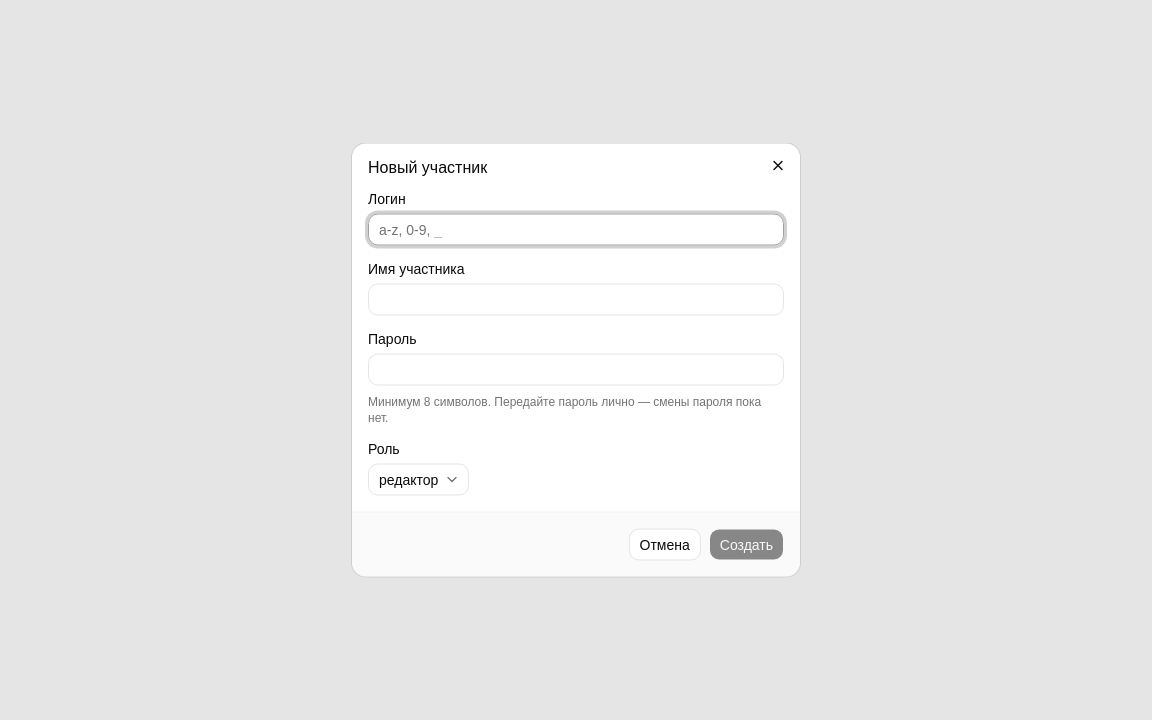
Scenario: MemberDialog — which refusal it recognises › does not claim the login is taken when the server said something else
This screenshot has width=1152, height=720.
Type "maria" into the field labelled "Логин" at (576, 230), box [368,214,784,246]
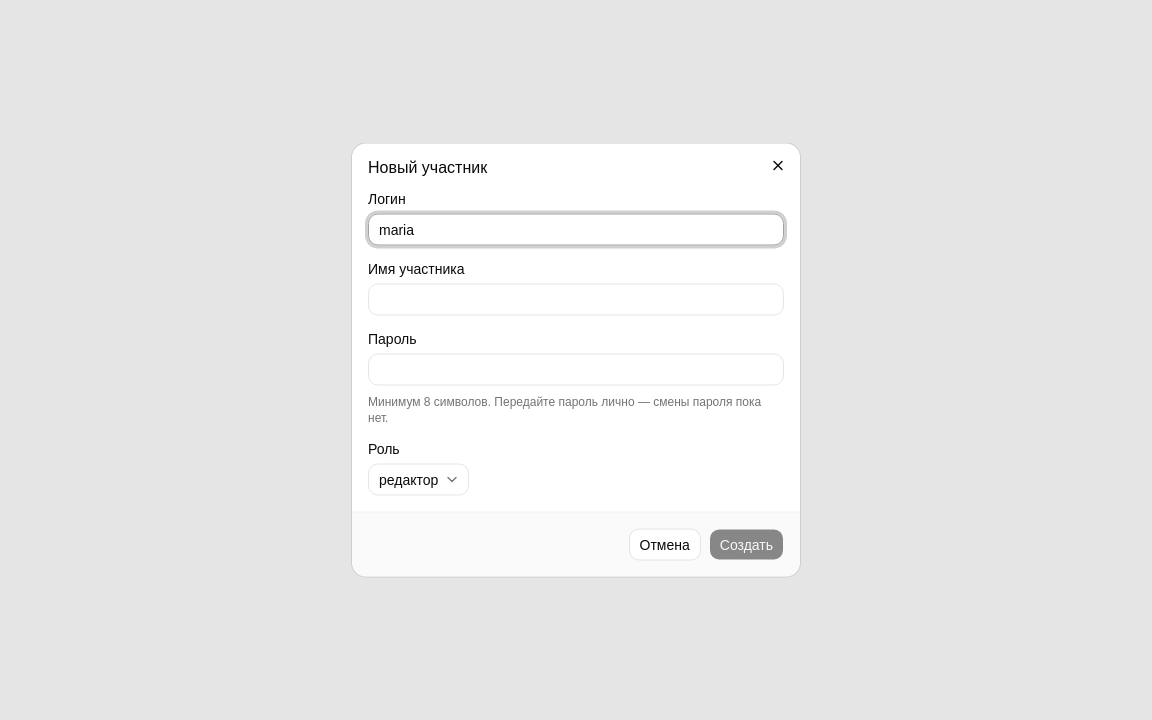
Type "Мария" into the field labelled "Имя участника" at (576, 300), box [368,284,784,316]
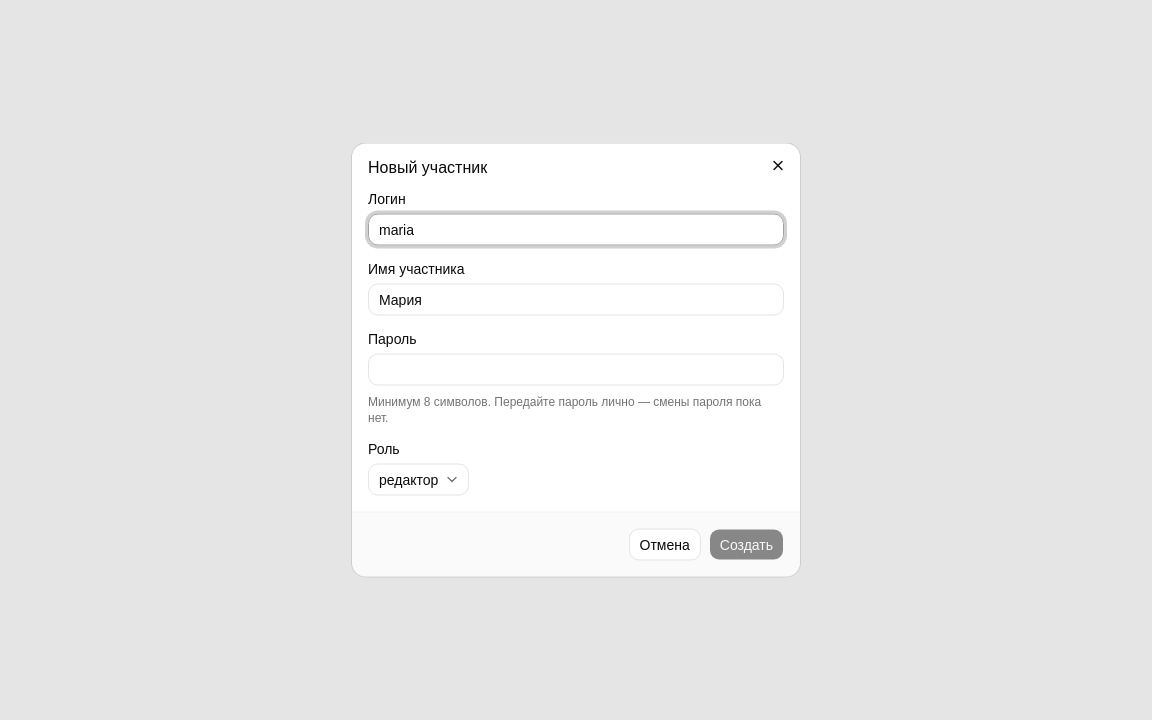
Type "12345678" into the password field labelled "Пароль" at (576, 370), box [368,354,784,386]
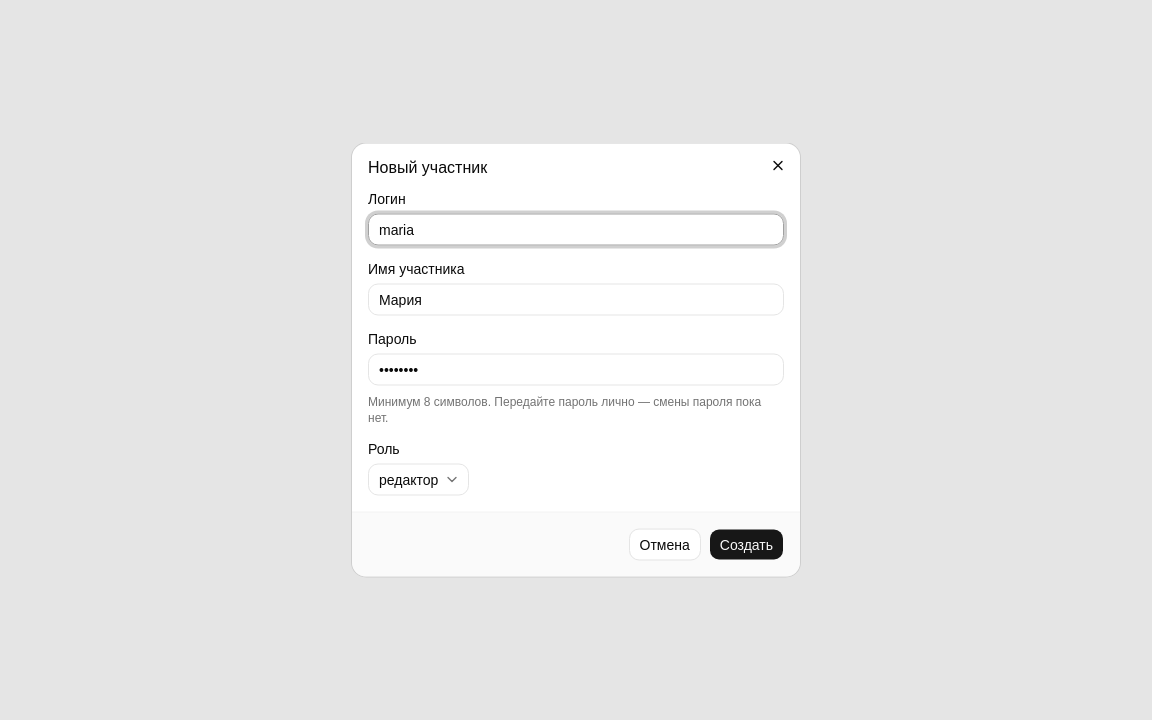
Click the button "Создать" at (746, 544), box [709,528,784,560]
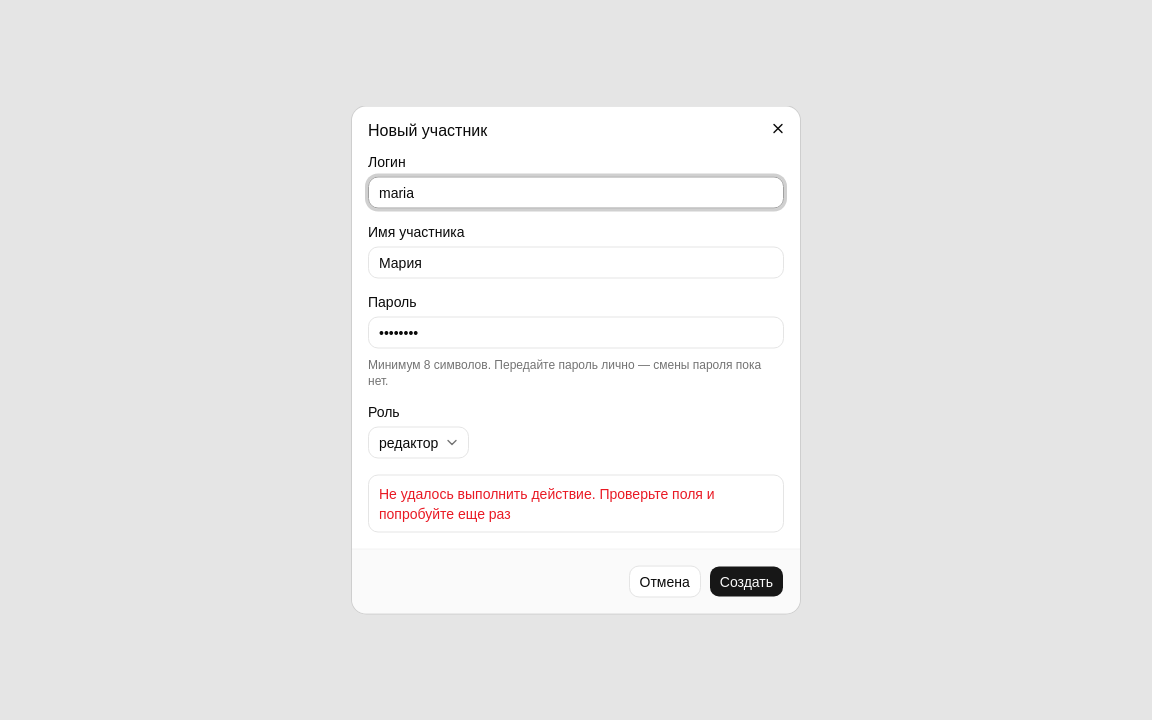
Now the text "Не удалось выполнить действие" is shown, box [379,486,715,522]
